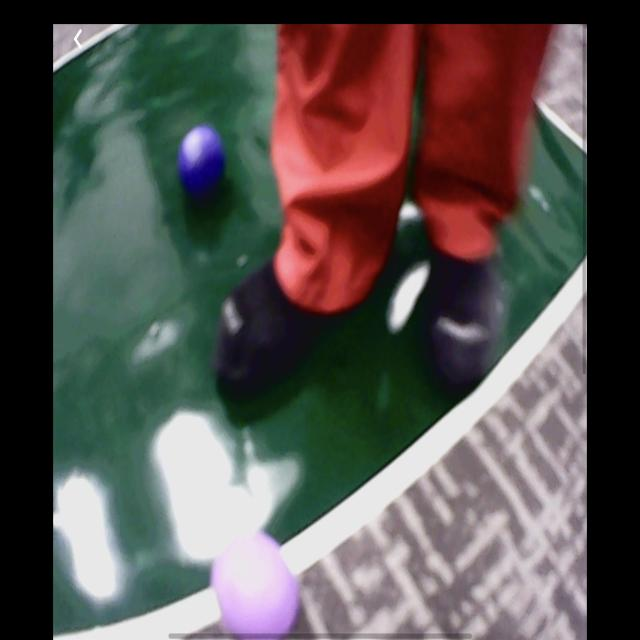ball: (212, 535, 299, 637), (179, 127, 225, 195)
